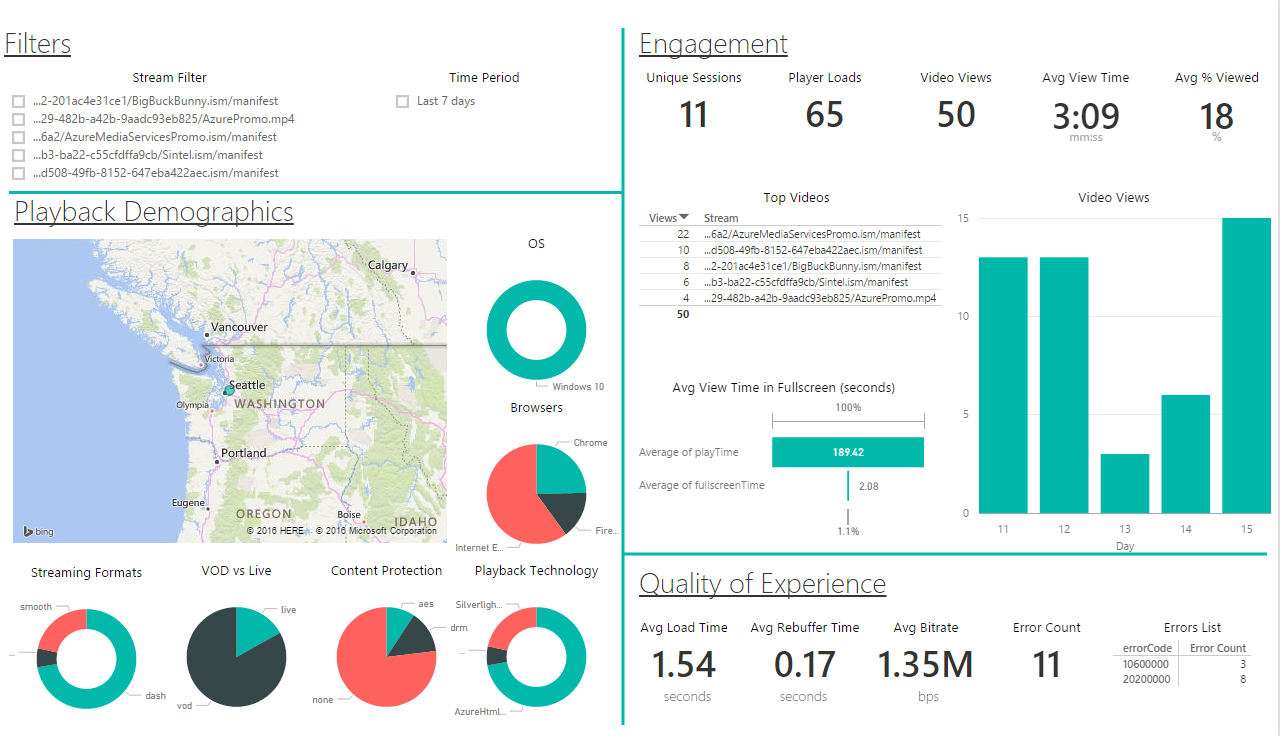

The dashboard page shown, as its layout file describes it:
{"tool":"powerbi","page":{"name":"Summary","canvas":[1280,720],"ordinal":0},"visuals":[{"type":"basicShape","box":[614,386,664,300],"z":0},{"type":"basicShape","box":[0,137,633,75],"z":1},{"type":"basicShape","box":[474,0,300,717],"z":2},{"type":"donutChart","fields":{"Category":["AMP_data.Streaming Format"],"Y":["CountNonNull(AMP_data.Streaming Format)"]},"box":[0,545,175,175],"z":3},{"type":"card","fields":{"Values":["AMP_data.Views"]},"box":[896.5,50,120,80],"z":4},{"type":"card","fields":{"Values":["Count(AMP_data.anonId)"]},"box":[635,50,120,80],"z":5},{"type":"card","fields":{"Values":["Avg(AMP_data.loadTime)"]},"box":[625,600,120,80],"z":6},{"type":"table","fields":{"Values":["AMP_data.View","AMP_data.Stream"]},"box":[635,170,325,178],"z":7},{"type":"card","fields":{"Values":["Avg(AMP_data.rebufferTime)"]},"box":[746,600,120,80],"z":8},{"type":"card","fields":{"Values":["CountNonNull(AMP_data.StreamId)"]},"box":[765.8,50,120,80],"z":9},{"type":"pieChart","fields":{"Category":["AMP_data.browser"],"Y":["CountNonNull(AMP_data.browser)"]},"box":[450,379.5,175,175],"z":10},{"type":"card","fields":{"Values":["AMP_data.%"]},"box":[1158,50,120,80],"z":11},{"type":"donutChart","fields":{"Category":["AMP_data.PlaybackTech"],"Y":["CountNonNull(AMP_data.PlaybackTech)"]},"box":[450,543,175,175],"z":12},{"type":"pieChart","fields":{"Y":["CountNonNull(AMP_data.ProtectionType)"],"Category":["AMP_data.ProtectionType"]},"box":[300,543,175,175],"z":13},{"type":"donutChart","fields":{"Category":["AMP_data.osVersion"],"Y":["CountNonNull(AMP_data.osVersion)"]},"box":[450,216,175,175],"z":14},{"type":"pieChart","fields":{"Category":["AMP_data.isLive"],"Y":["CountNonNull(AMP_data.isLive)"]},"box":[150,543,175,175],"z":15},{"type":"card","fields":{"Values":["Avg(AMP_data.avgBitrate)"]},"box":[867,600,120,80],"z":16},{"type":"textbox","box":[10,168,310,60],"z":17},{"type":"slicer","fields":{"Values":["AMP_data.truncStreamId"]},"box":[0,50,341,128],"z":18},{"type":"slicer","fields":{"Values":["AMP_data.eventDate"]},"box":[384,50,203,121],"z":19},{"type":"textbox","box":[0,0,244,49],"z":20},{"type":"textbox","box":[635,0,300,55],"z":21},{"type":"textbox","box":[635,540,300,57],"z":22},{"type":"map","fields":{"Category":["AMP_data.Location"]},"box":[9,216,444,314],"z":23},{"type":"card","fields":{"Values":["AMP_data.Error Count"]},"box":[988,600,120,80],"z":24},{"type":"matrix","fields":{"Rows":["AMP_data.errorCode"],"Values":["AMP_data.Error Count"]},"box":[1109,600,169,118],"z":25},{"type":"lineStackedColumnComboChart","fields":{"Category":["select"],"Y":["AMP_data.Views"]},"box":[953,170,324,370],"z":26},{"type":"card","fields":{"Values":["AMP_data.Measure"]},"box":[1027.2,50,120,80],"z":27},{"type":"textbox","box":[656,663,65,55],"z":28},{"type":"textbox","box":[772,663,65,55],"z":29},{"type":"textbox","box":[899,663,61,55],"z":30},{"type":"funnel","fields":{"Y":["Avg(AMP_data.playTime)","Avg(AMP_data.fullscreenTime)"]},"box":[635,360,300,165],"z":31}]}

Visuals, with their boxes in screenshot pixels (x1, y1, x2, y2), scaled from the page's 1280x720 canvas onto the 1280x736 screenshot:
basicShape: pyautogui.locateOnScreen(614, 395, 1278, 701)
basicShape: pyautogui.locateOnScreen(0, 140, 633, 217)
basicShape: pyautogui.locateOnScreen(474, 0, 774, 733)
donutChart - AMP_data.Streaming Format x CountNonNull(AMP_data.Streaming Format): pyautogui.locateOnScreen(0, 557, 175, 735)
card - AMP_data.Views: pyautogui.locateOnScreen(896, 51, 1016, 133)
card - Count(AMP_data.anonId): pyautogui.locateOnScreen(635, 51, 755, 133)
card - Avg(AMP_data.loadTime): pyautogui.locateOnScreen(625, 613, 745, 695)
table - AMP_data.View x AMP_data.Stream: pyautogui.locateOnScreen(635, 174, 960, 356)
card - Avg(AMP_data.rebufferTime): pyautogui.locateOnScreen(746, 613, 866, 695)
card - CountNonNull(AMP_data.StreamId): pyautogui.locateOnScreen(766, 51, 886, 133)
pieChart - AMP_data.browser x CountNonNull(AMP_data.browser): pyautogui.locateOnScreen(450, 388, 625, 567)
card - AMP_data.%: pyautogui.locateOnScreen(1158, 51, 1278, 133)
donutChart - AMP_data.PlaybackTech x CountNonNull(AMP_data.PlaybackTech): pyautogui.locateOnScreen(450, 555, 625, 734)
pieChart - CountNonNull(AMP_data.ProtectionType) x AMP_data.ProtectionType: pyautogui.locateOnScreen(300, 555, 475, 734)
donutChart - AMP_data.osVersion x CountNonNull(AMP_data.osVersion): pyautogui.locateOnScreen(450, 221, 625, 400)
pieChart - AMP_data.isLive x CountNonNull(AMP_data.isLive): pyautogui.locateOnScreen(150, 555, 325, 734)
card - Avg(AMP_data.avgBitrate): pyautogui.locateOnScreen(867, 613, 987, 695)
textbox: pyautogui.locateOnScreen(10, 172, 320, 233)
slicer - AMP_data.truncStreamId: pyautogui.locateOnScreen(0, 51, 341, 182)
slicer - AMP_data.eventDate: pyautogui.locateOnScreen(384, 51, 587, 175)
textbox: pyautogui.locateOnScreen(0, 0, 244, 50)
textbox: pyautogui.locateOnScreen(635, 0, 935, 56)
textbox: pyautogui.locateOnScreen(635, 552, 935, 610)
map - AMP_data.Location: pyautogui.locateOnScreen(9, 221, 453, 542)
card - AMP_data.Error Count: pyautogui.locateOnScreen(988, 613, 1108, 695)
matrix - AMP_data.errorCode x AMP_data.Error Count: pyautogui.locateOnScreen(1109, 613, 1278, 734)
lineStackedColumnComboChart - select x AMP_data.Views: pyautogui.locateOnScreen(953, 174, 1277, 552)
card - AMP_data.Measure: pyautogui.locateOnScreen(1027, 51, 1147, 133)
textbox: pyautogui.locateOnScreen(656, 678, 721, 734)
textbox: pyautogui.locateOnScreen(772, 678, 837, 734)
textbox: pyautogui.locateOnScreen(899, 678, 960, 734)
funnel - Avg(AMP_data.playTime) x Avg(AMP_data.fullscreenTime): pyautogui.locateOnScreen(635, 368, 935, 537)
